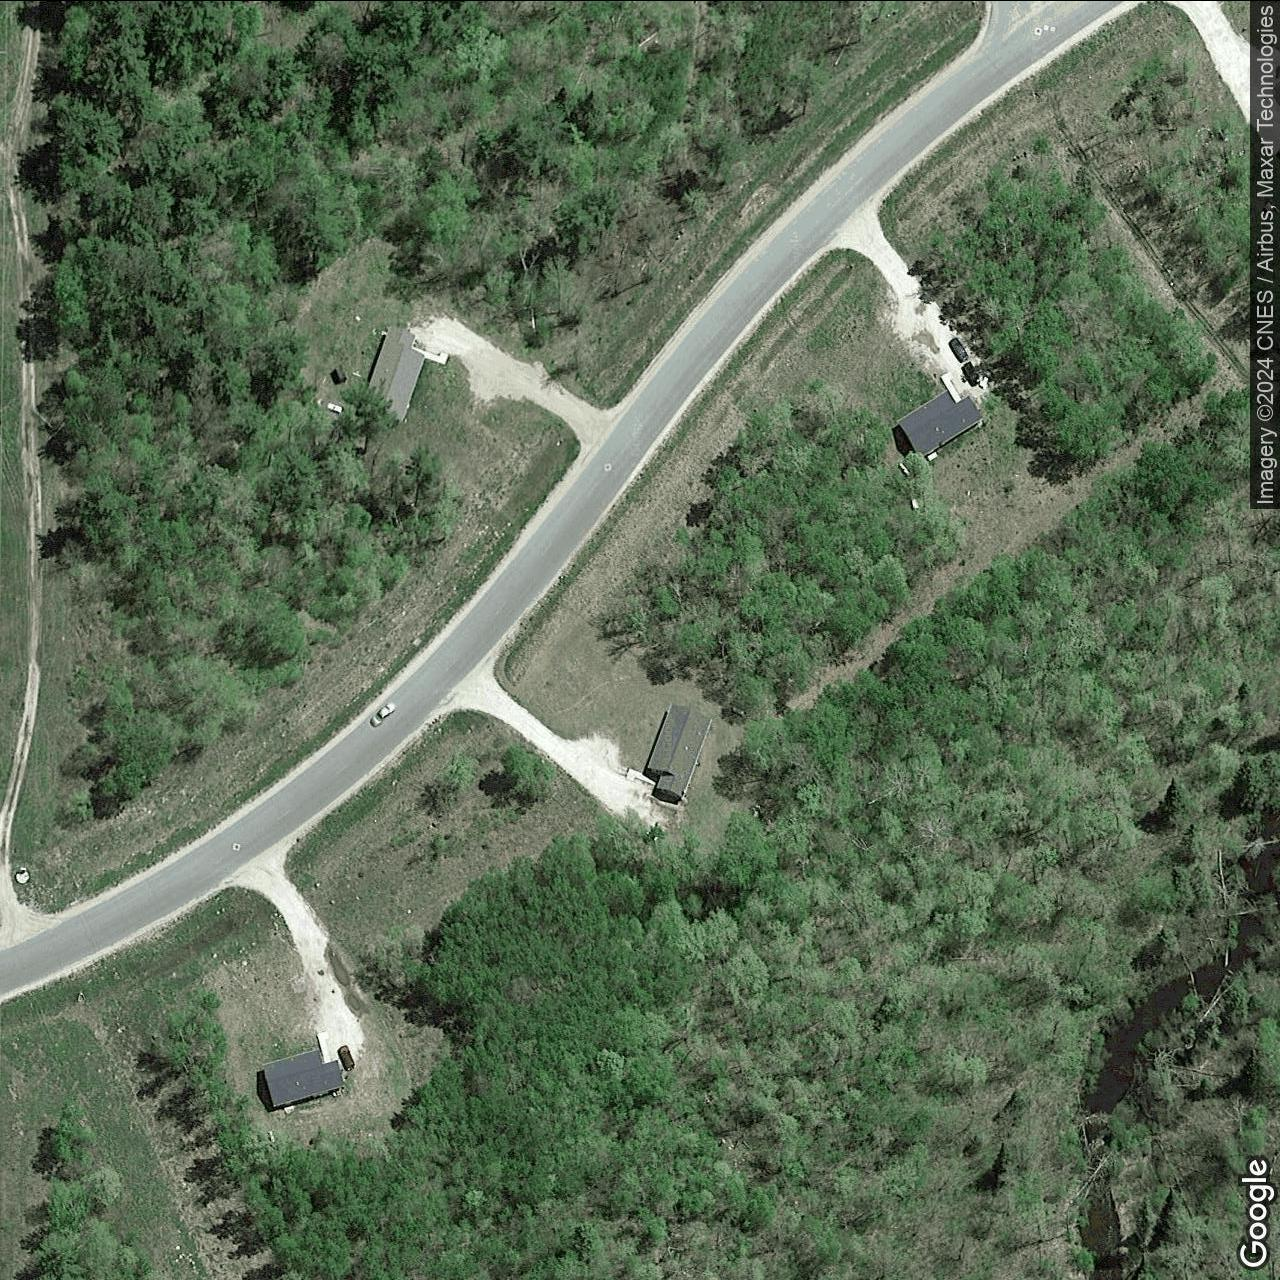House: (648, 701, 714, 801), (362, 325, 425, 421), (897, 388, 982, 458), (261, 1047, 345, 1108)
Propane: (325, 400, 346, 415), (897, 459, 912, 477)
